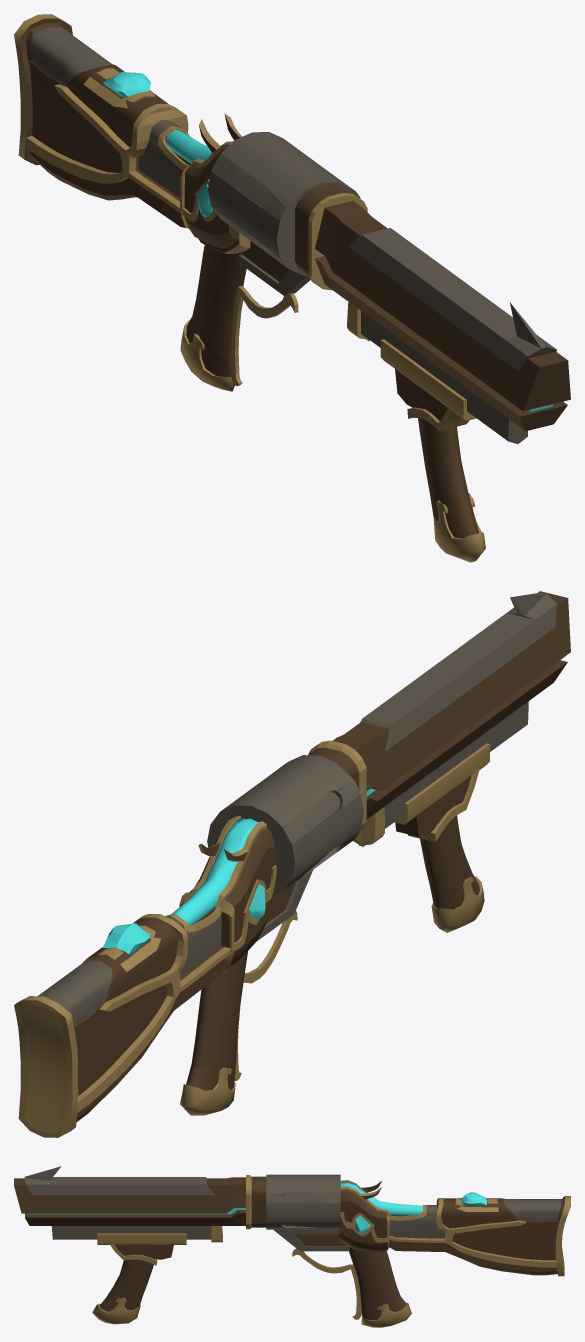
File: gun.fbx
The picture shows the model from 3 angles, top to bottom: view 1: azimuth 30°, elevation 25°; view 2: azimuth 150°, elevation 25°; view 3: azimuth 270°, elevation 25°; orthographic projection. The views are drawn at different scales.
Parts seen in each view (by area): view 1: side3; view 2: side3; view 3: side3.
Part boxes in pixels (left/top/right/bottom): side3: left=14, top=14, right=570, bottom=562; side3: left=14, top=591, right=570, bottom=1137; side3: left=14, top=1166, right=570, bottom=1327.
Bounding box in the file's own units: 2.72 × 8.8 × 27.53.
